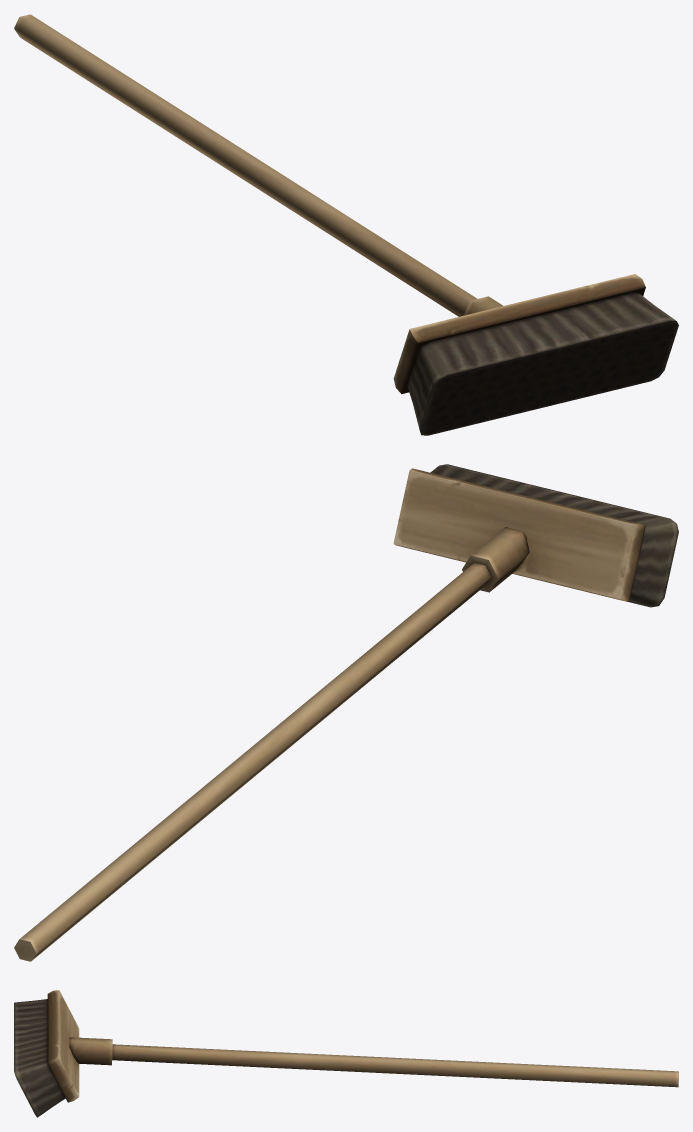
File: escoba.fbx
3 renders of one model, top to bottom at view 1: azimuth 30°, elevation 25°; view 2: azimuth 150°, elevation 25°; view 3: azimuth 270°, elevation 25°, orthographic. The views are drawn at different scales.
Visible parts, largest first — view 1: s4studio_mesh_0; view 2: s4studio_mesh_0; view 3: s4studio_mesh_0.
Part boxes in pixels (box(x1,y1,x2,y2)): s4studio_mesh_0: box(14, 14, 678, 435); s4studio_mesh_0: box(14, 464, 678, 961); s4studio_mesh_0: box(14, 990, 678, 1117).
Size of the model in its own units: 45.84 by 17.57 by 173.
Materials: 1 (1 with a texture image).
